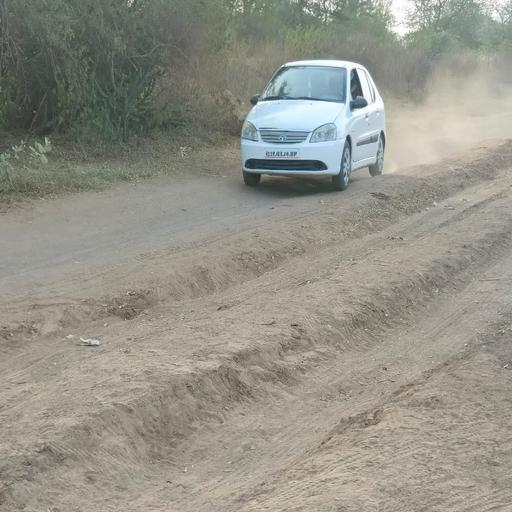vehicle_track: (0, 161, 512, 408), (110, 247, 512, 512), (0, 180, 311, 303)
